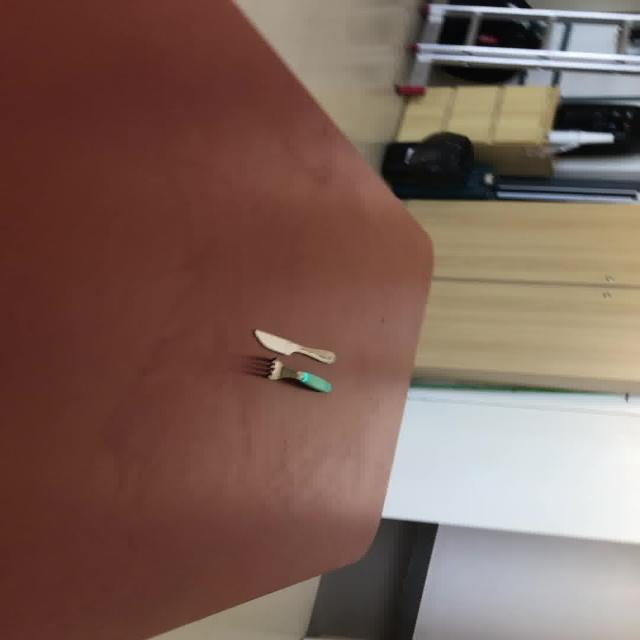fork: (245, 354, 331, 393)
knife fork: (251, 328, 336, 363)
